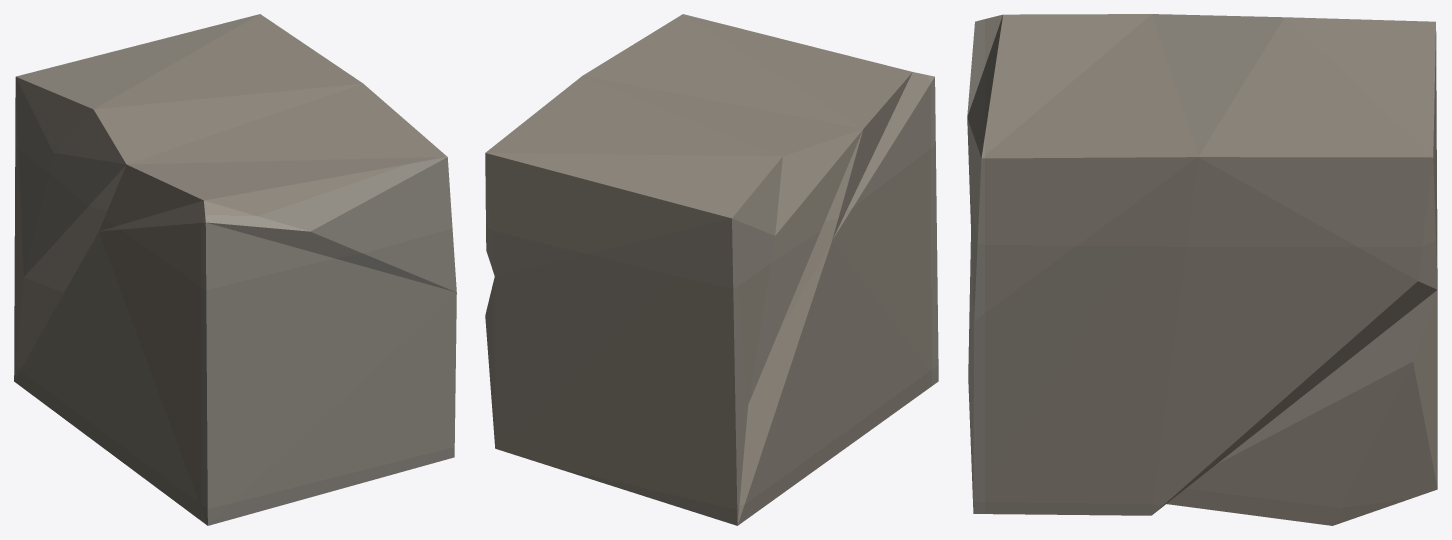
File: YN_Pillar6.fbx
3 renders of one model, left to right at view 1: azimuth 30°, elevation 25°; view 2: azimuth 150°, elevation 25°; view 3: azimuth 270°, elevation 25°, orthographic. The views are drawn at different scales.
Parts seen in each view (by area): view 1: Pillar6; view 2: Pillar6; view 3: Pillar6.
Part boxes in pixels (box(x1,y1,x2,y2)): Pillar6: box(14, 14, 456, 525); Pillar6: box(485, 14, 938, 525); Pillar6: box(967, 14, 1437, 525).
Bounding box in the file's own units: 0.9113 × 1.04 × 1.19.
